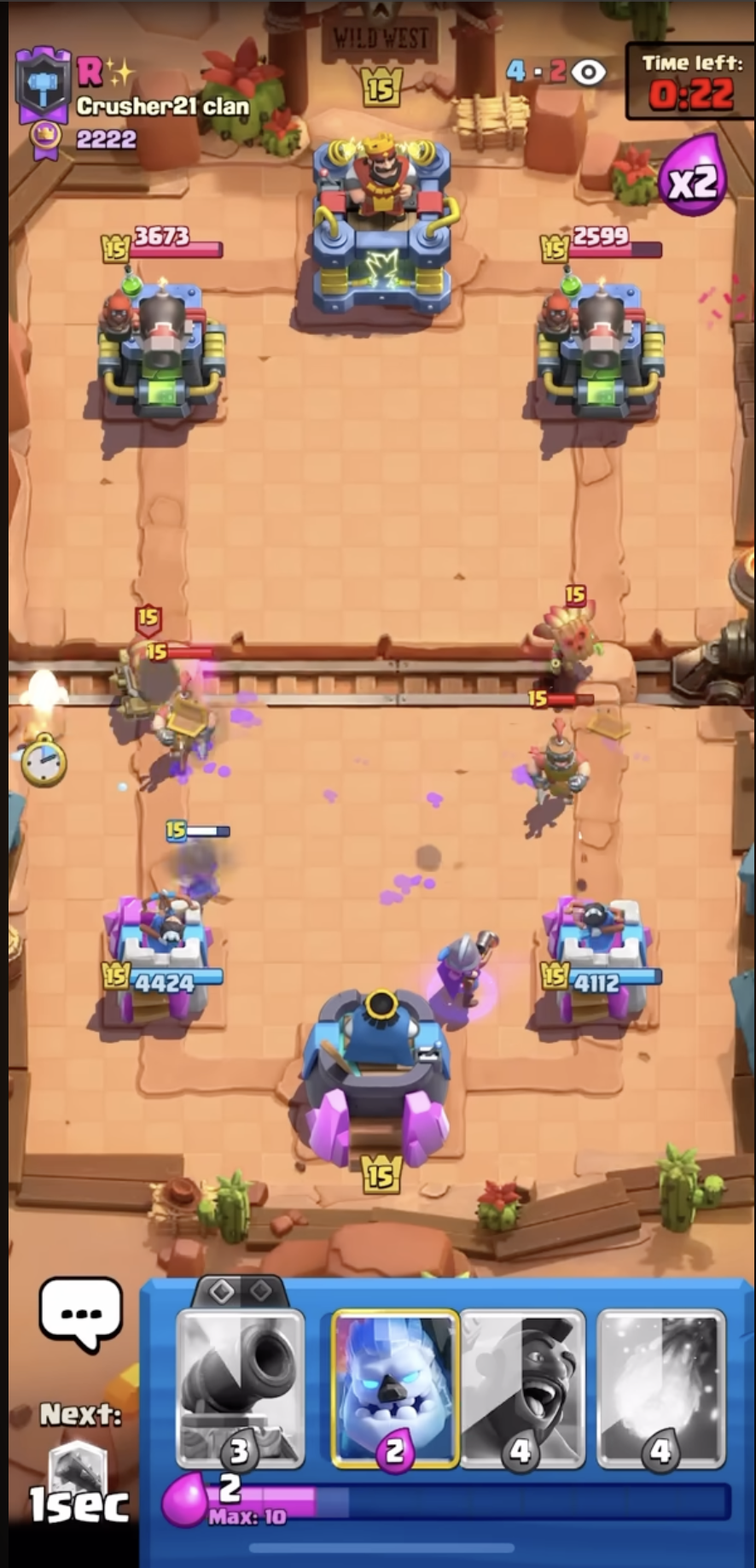evo-musketeer: (432, 914, 512, 1019)
musketeer: (159, 806, 247, 920)
